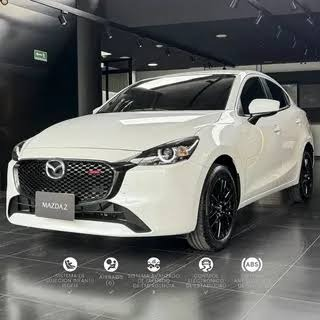car: (24, 68, 314, 258)
